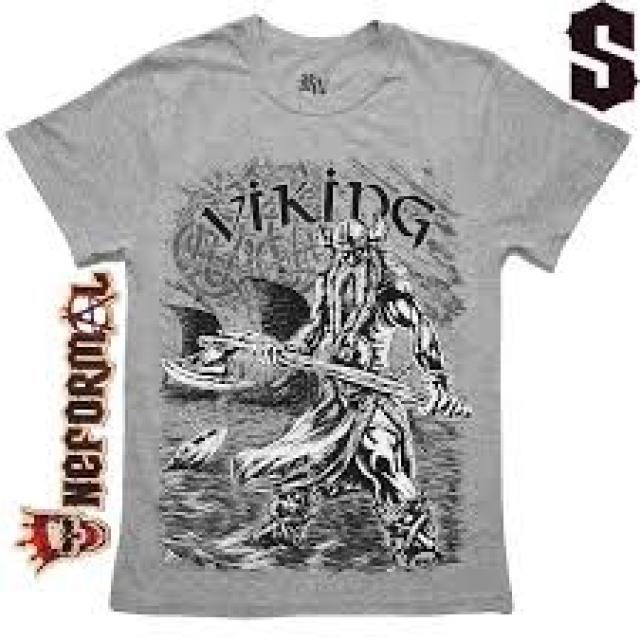Shirt: (4, 24, 623, 624)
